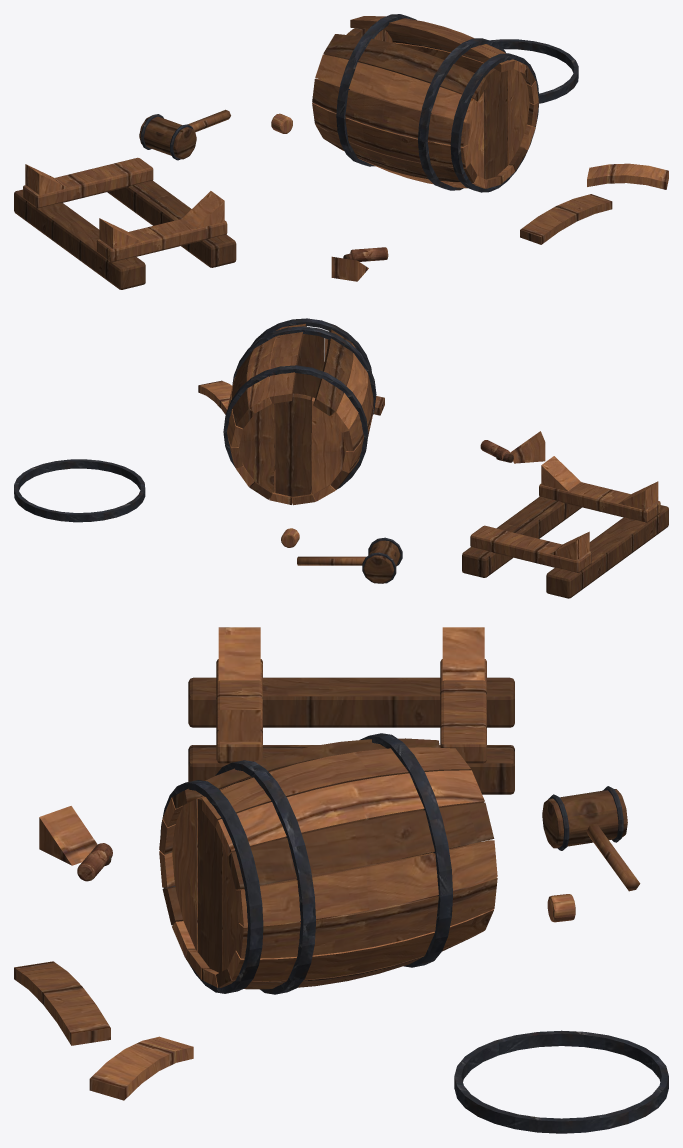
The model's file is rb_cask_rolled.glb.
The picture shows the model from 3 angles, top to bottom: view 1: azimuth 30°, elevation 25°; view 2: azimuth 150°, elevation 25°; view 3: azimuth 270°, elevation 25°; orthographic projection. The views are drawn at different scales.
Visible parts, largest first — view 1: model; view 2: model; view 3: model.
Boxes of the visible parts, x1,y1,x2,y2 form: model: (14, 14, 668, 289); model: (14, 318, 668, 598); model: (14, 627, 668, 1133).
Bounding box in the file's own units: 2.15 × 0.506 × 1.4.
7 materials, 7 textured.
